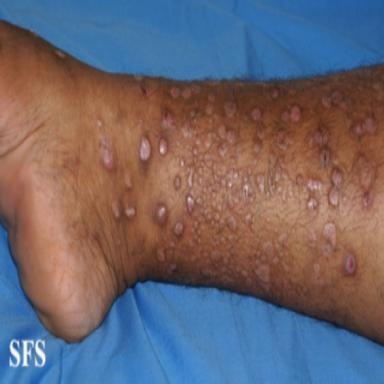Epidermolysis-Bullosa-Pruriginosa: (171, 125, 343, 243), (322, 90, 377, 139), (254, 225, 288, 281), (353, 154, 376, 208), (307, 222, 337, 258), (156, 112, 175, 159), (100, 140, 114, 170), (342, 249, 356, 276), (138, 134, 151, 163), (153, 202, 168, 225), (277, 130, 293, 151), (281, 106, 301, 122), (224, 98, 236, 116), (210, 250, 221, 265), (112, 201, 120, 218), (125, 171, 132, 189), (157, 246, 165, 261), (182, 88, 192, 100), (125, 206, 135, 218), (167, 263, 176, 276), (202, 267, 215, 276), (252, 108, 261, 121), (257, 124, 264, 140), (170, 88, 180, 98), (205, 104, 213, 114), (253, 144, 261, 153), (271, 89, 278, 98), (209, 93, 215, 102)
